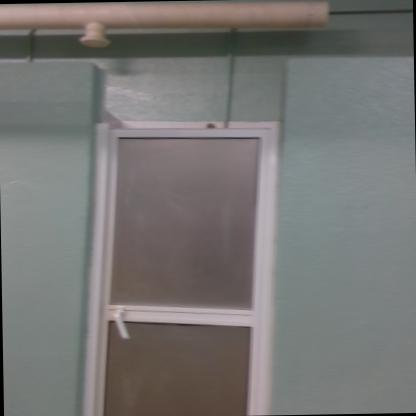closed: (67, 91, 297, 415)
